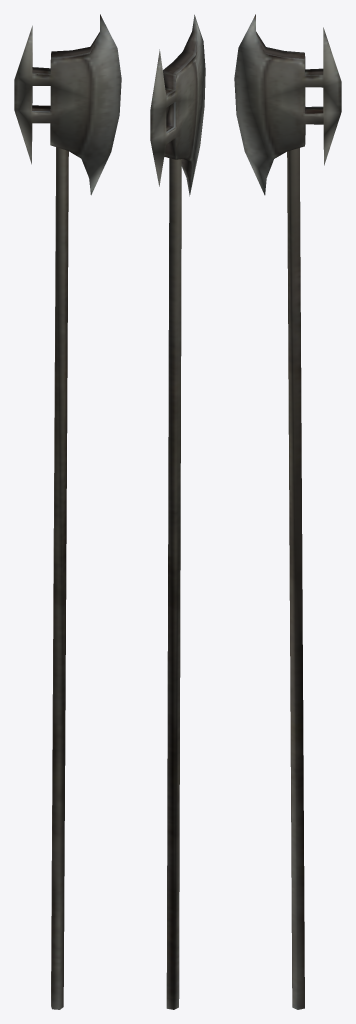
File: GY_changfu.fbx
3 renders of one model, left to right at view 1: azimuth 90°, elevation 25°; view 2: azimuth 150°, elevation 25°; view 3: azimuth 270°, elevation 25°, orthographic.
Visible parts, largest first — view 1: GY_changfu; view 2: GY_changfu; view 3: GY_changfu.
Boxes of the visible parts, bbox=[...] form: GY_changfu: bbox=[14, 14, 121, 1009]; GY_changfu: bbox=[150, 14, 205, 1009]; GY_changfu: bbox=[234, 14, 341, 1009].
Bounding box in the file's own units: 4.03 × 253 × 24.76.
